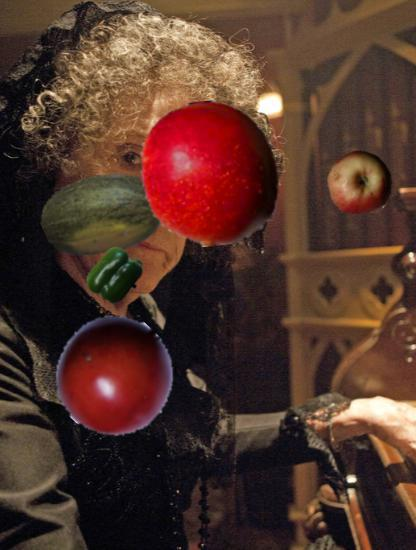Apple: (327, 151, 394, 218)
Melon: (42, 153, 166, 277)
Nectarine: (137, 101, 283, 247)
Pepper: (88, 248, 143, 303)
Tamarillo: (54, 316, 175, 437)
